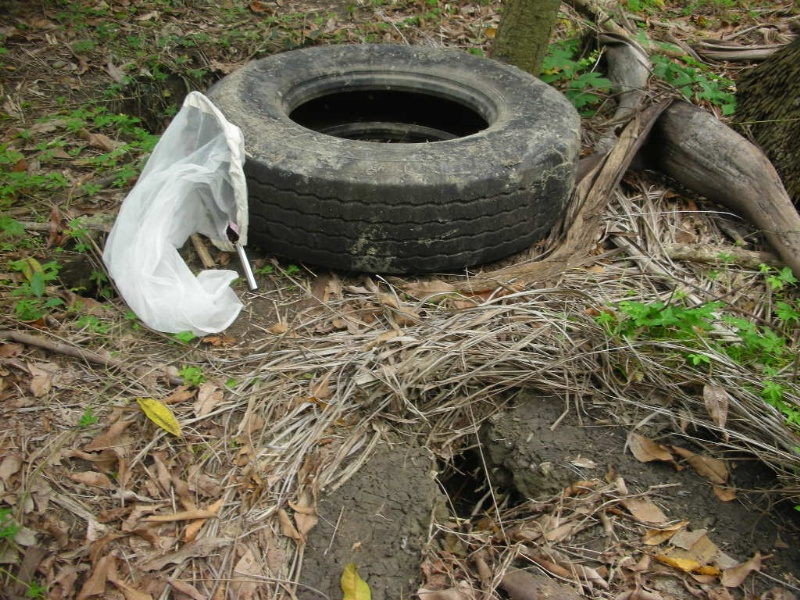plastic_bag: (100, 88, 251, 340)
tire: (201, 41, 583, 277)
